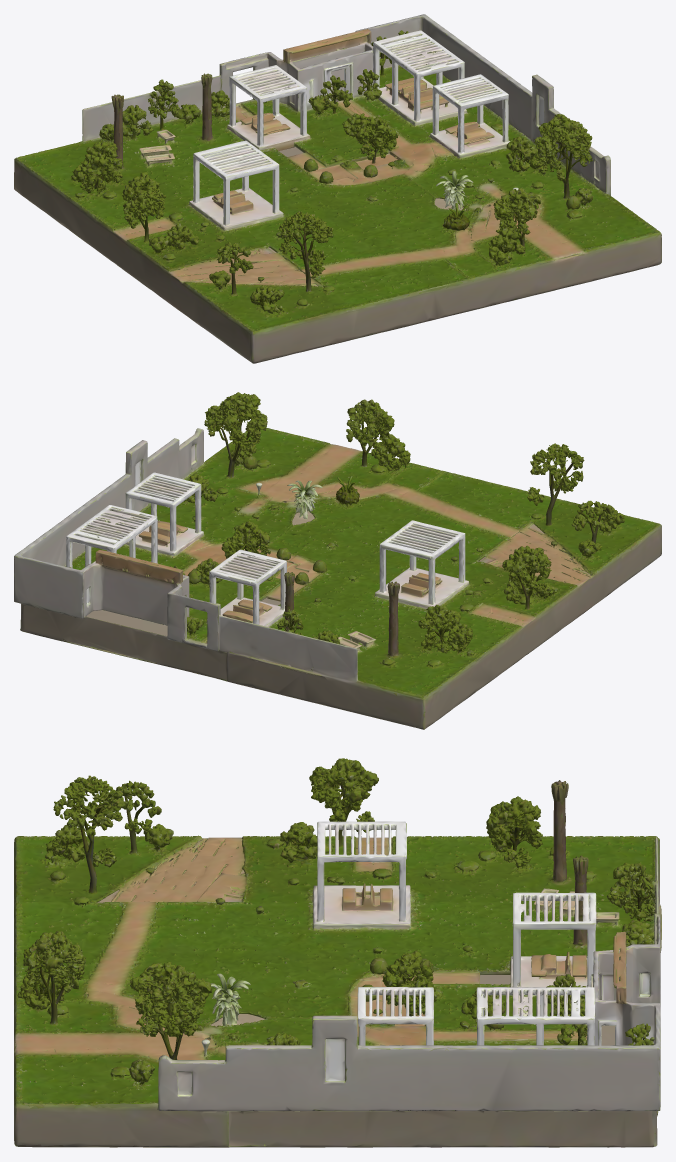
Rendered from la-plage-beach-2.glb.
3 views of the same model, one above another, from view 1: azimuth 30°, elevation 25°; view 2: azimuth 150°, elevation 25°; view 3: azimuth 270°, elevation 25° (orthographic). The views are drawn at different scales.
Bounding box in the file's own units: 1 × 0.269 × 1.
Materials: 1 (1 with a texture image).
